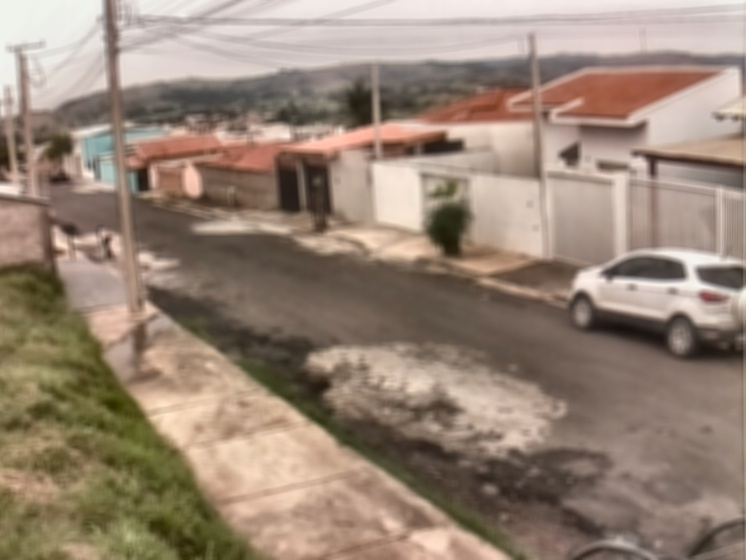person: (95, 224, 116, 259)
